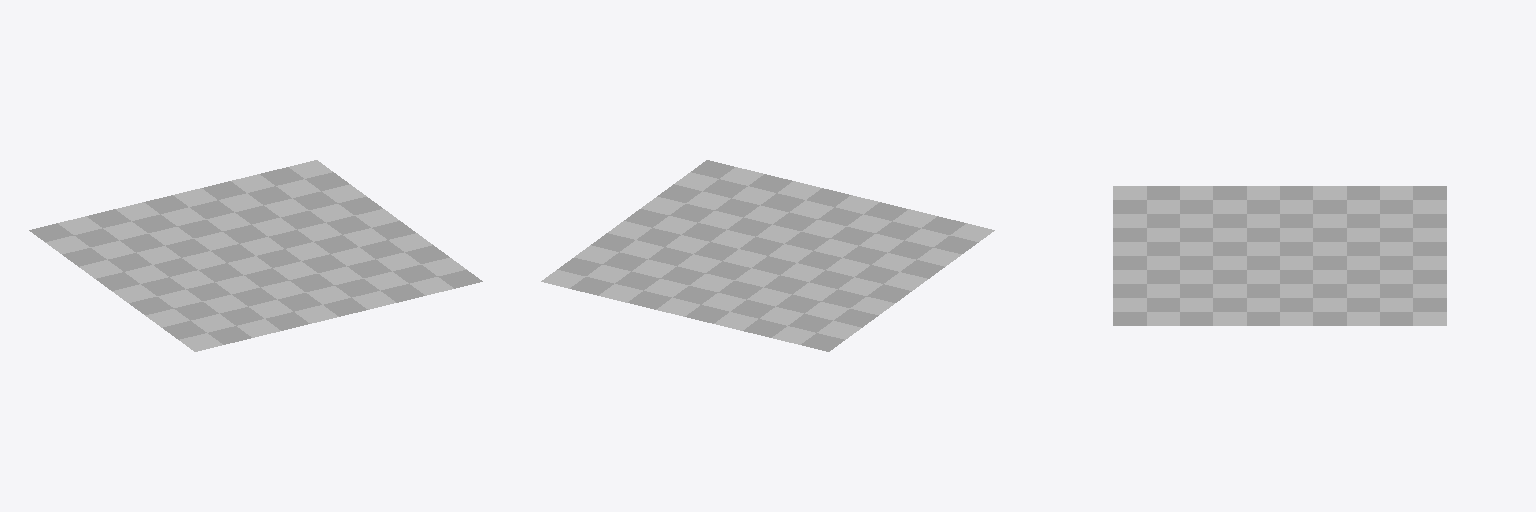
Rendered from checker.obj.
3 views of the same model, side by side, from view 1: azimuth 30°, elevation 25°; view 2: azimuth 150°, elevation 25°; view 3: azimuth 270°, elevation 25° (orthographic).
Visible parts, largest first — view 1: grid1; view 2: grid1; view 3: grid1.
Part boxes in pixels (left/top/right/bottom): grid1: left=29, top=160, right=482, bottom=351; grid1: left=541, top=160, right=994, bottom=351; grid1: left=1113, top=186, right=1446, bottom=325.
Size of the model in its own units: 10 by 0 by 10.